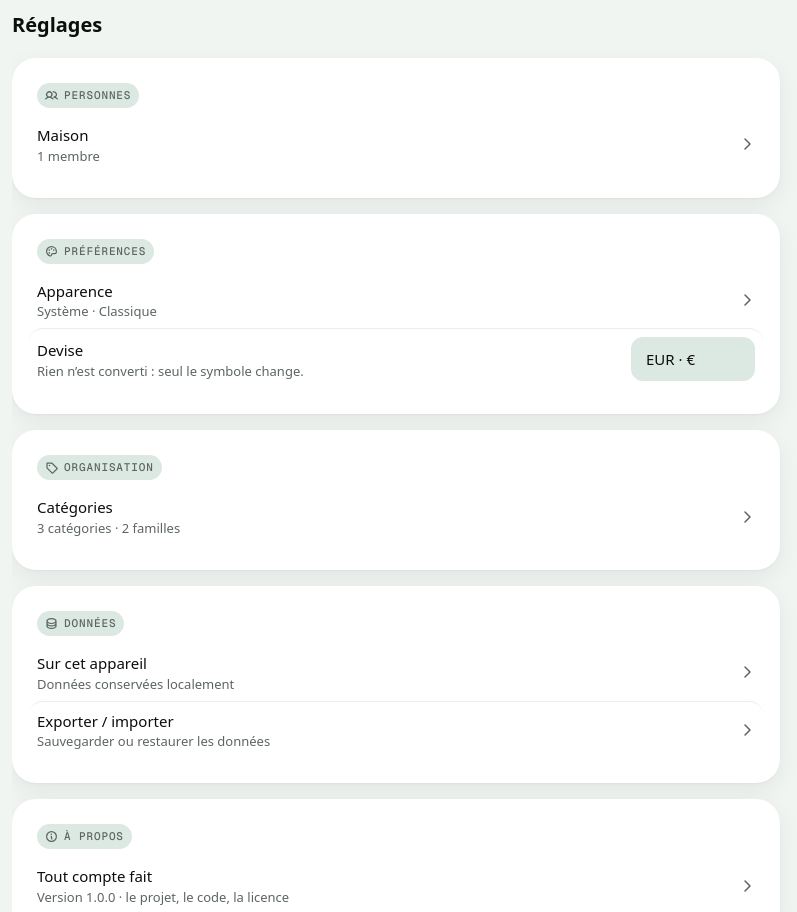
Scenario: l’apparence › descend depuis la page d’entrée, et remonte
Click the link "Apparence Système · Classique".
click(75, 291)  # box [29,272,763,328]
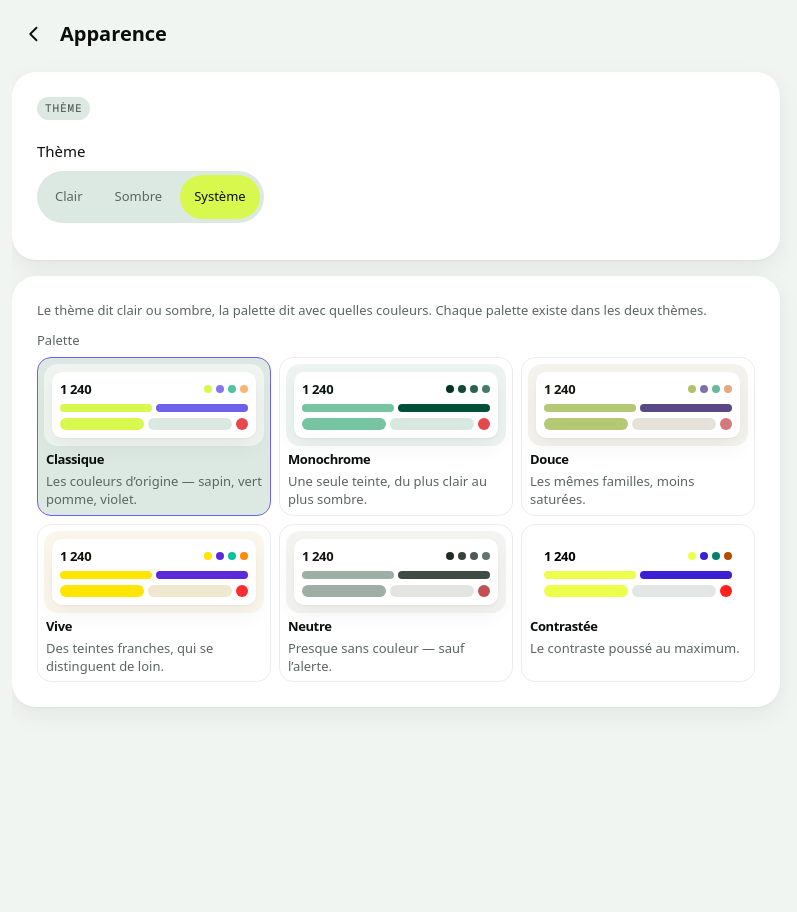
Check: the heading reads "Apparence", box [60,20,167,47]
Click the button named "Retour".
click(34, 34)  # box [12,12,56,56]
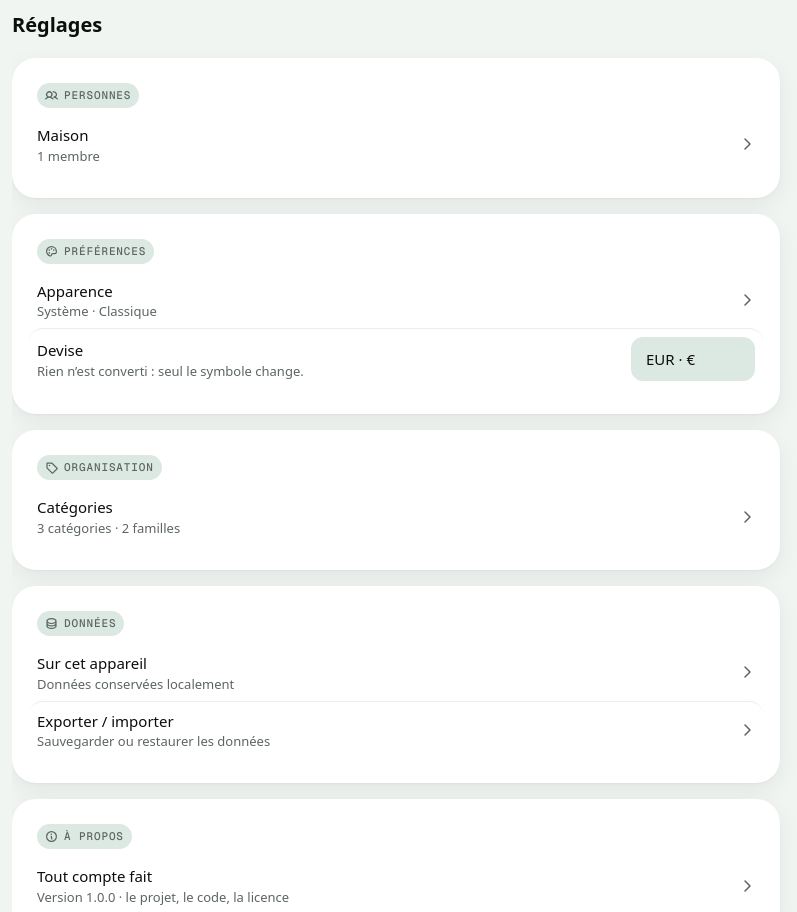
Check: the heading reads "Réglages", box [12,11,102,38]
